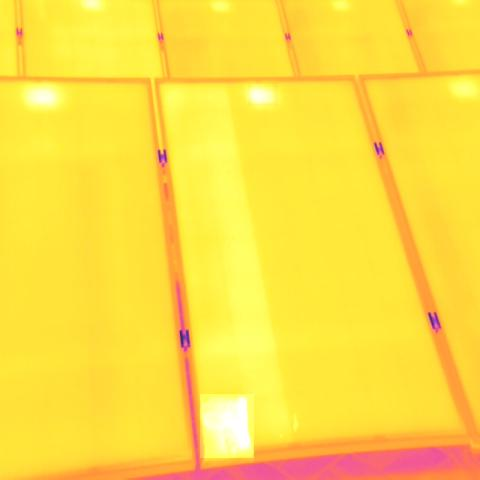fault: (200, 394, 254, 458), (25, 82, 56, 110), (248, 82, 278, 106)
